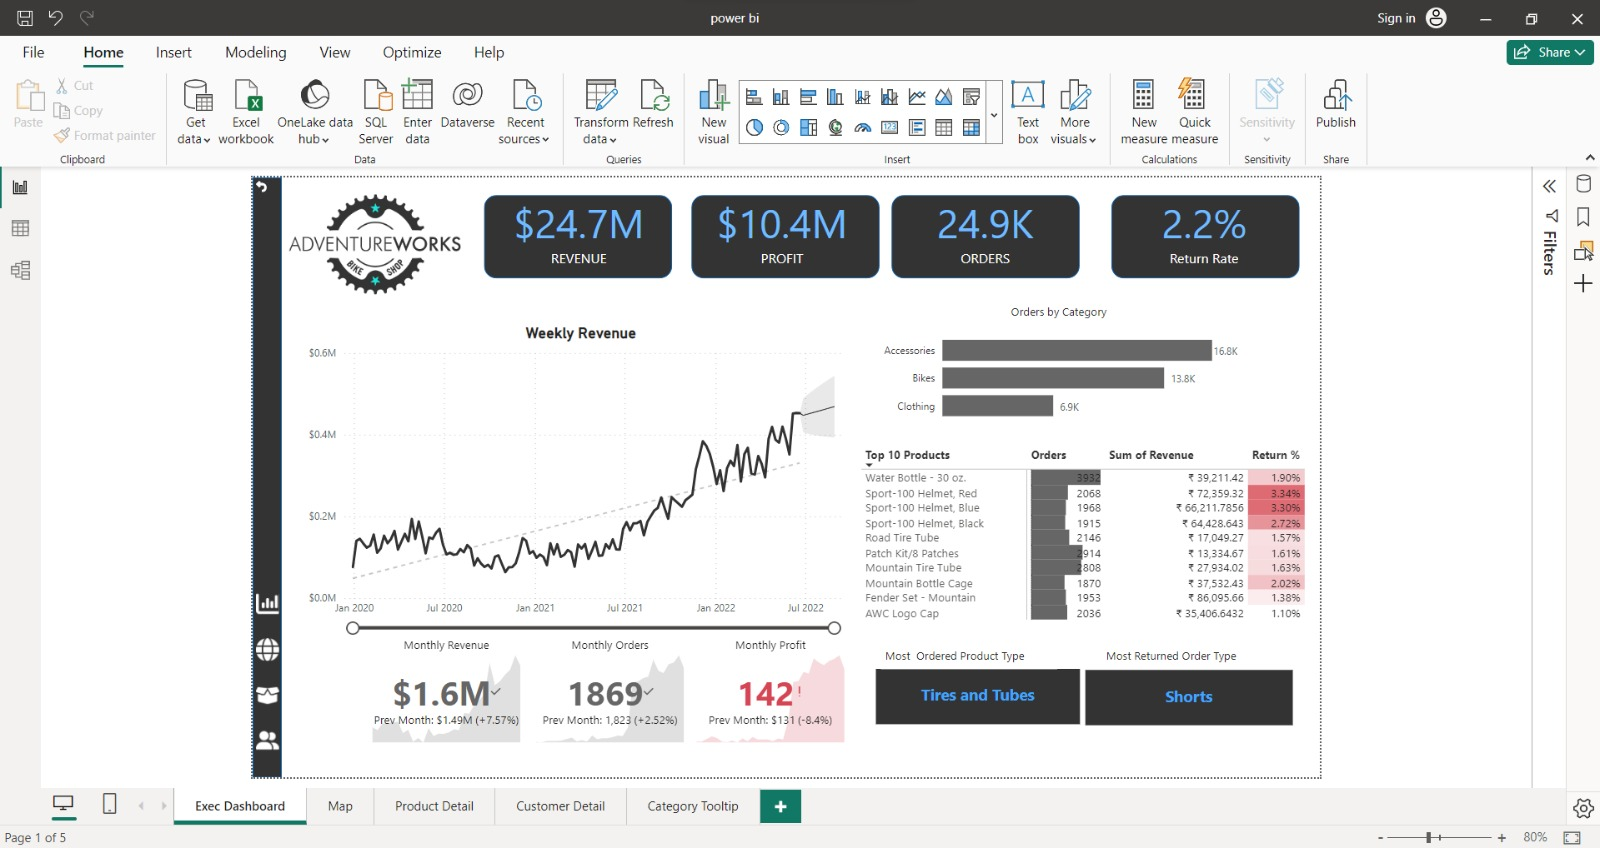

What the dashboard file says about the page in this screenshot:
{"tool":"powerbi","page":{"name":"Exec Dashboard","canvas":[1280,720],"ordinal":0},"visuals":[{"type":"card","fields":{"Values":["Measure Table.total revenue"]},"box":[260.3,0,262.8,128.2],"z":0,"group":"g2"},{"type":"image","title":"AW logo","box":[16.7,10.3,261.5,141],"z":0},{"type":"group","id":"g1","title":"KPI background","box":[278.2,21.8,978.2,100],"z":0,"group":"g3"},{"type":"shape","title":"Shape","box":[278.2,21.8,225.6,100],"z":0,"group":"g1"},{"type":"actionButton","title":"Button","box":[0,492.9,35.7,38.6],"z":0,"group":"g4"},{"type":"shape","title":"left nav background","box":[0,0,35,720.5],"z":1000},{"type":"group","id":"g2","title":"KPI Values","box":[260.3,0,1012.8,128.2],"z":1000,"group":"g3"},{"type":"card","fields":{"Values":["Measure Table.Return Rate"]},"box":[1010.3,0,262.8,128.2],"z":1000,"group":"g2"},{"type":"shape","box":[526.9,21.8,225.6,100],"z":1000,"group":"g1"},{"type":"actionButton","box":[0,547.7,35.7,38.6],"z":1000,"group":"g4"},{"type":"group","id":"g3","title":"KPI","box":[63,0,1210.1,551.2],"z":2000},{"type":"card","fields":{"Values":["Measure Table.Total profit"]},"box":[503.9,0,262.8,128.2],"z":2000,"group":"g2"},{"type":"shape","box":[766.7,21.8,225.6,100],"z":2000,"group":"g1"},{"type":"lineChart","title":"Weekly Revenue","fields":{"Y":["Measure Table.total revenue"],"Category":["Calendar Lookup.Start of Week"]},"box":[63,176.2,662.5,375],"z":2000,"group":"g3"},{"type":"actionButton","box":[0,602.4,35.7,38.6],"z":2000,"group":"g4"},{"type":"card","fields":{"Values":["Measure Table.Total Orders"]},"box":[747.5,0,262.8,128.2],"z":3000,"group":"g2"},{"type":"shape","title":"Shape","box":[1030.8,21.8,225.6,100],"z":3000,"group":"g1"},{"type":"kpi","title":"Monthly Revenue","fields":{"TrendLine":["Calendar Lookup.Start of Month"],"Goal":["Measure Table.Previous month revenue"],"Indicator":["Measure Table.total revenue"]},"box":[138.8,551.2,187.5,132.5],"z":3000},{"type":"actionButton","title":"Button","box":[0,657.2,35.7,38.6],"z":3000,"group":"g4"},{"type":"kpi","title":"Monthly Profit","fields":{"TrendLine":["Calendar Lookup.Start of Month"],"Indicator":["Measure Table.Total Return"],"Goal":["Measure Table.previous month returns"]},"box":[527.5,551.2,187.5,132.5],"z":4000},{"type":"kpi","title":"Monthly Orders","fields":{"TrendLine":["Calendar Lookup.Start of Month"],"Indicator":["Measure Table.Total Orders"],"Goal":["Measure Table.Previous month orders"]},"box":[335,551.2,187.5,132.5],"z":5000},{"type":"clusteredBarChart","title":"Orders by Category","fields":{"Category":["Product Categories Lookup.CategoryName"],"Y":["Measure Table.Total Orders"]},"box":[746.9,151.6,438.8,155.2],"z":6000},{"type":"pivotTable","fields":{"Rows":["Product Lookup.ProductName"],"Values":["Measure Table.Total Orders","Sum(Sales Data.Revenue)","Measure Table.Return Rate"]},"box":[725,318.8,547.5,232.5],"z":7000},{"type":"card","fields":{"Values":["Min(Product Subcategories Lookup.SubcategoryName)"]},"box":[747.5,590,245,66.2],"z":8000},{"type":"textbox","box":[753.8,560,211.2,30],"z":9000},{"type":"card","fields":{"Values":["Min(Product Subcategories Lookup.SubcategoryName)"]},"box":[998.8,591.2,248.8,66.2],"z":10000},{"type":"textbox","box":[1018.8,560,188.8,30],"z":11000},{"type":"actionButton","box":[0,0,35,21.2],"z":12000},{"type":"group","id":"g4","title":"Navigation Buttons","box":[0,492.9,35.7,202.9],"z":13000}]}

Visuals, with their boxes on the page's 1280x720 design canvas (x1, y1, x2, y2). These are canvas units, not pixel positions in the 1600x848 screenshot, which may show the page scaled, cropped or inside an application window:
card - Measure Table.total revenue: (260,0,523,128)
"AW logo" image: (17,10,278,151)
"KPI background" group: (278,22,1256,122)
"Shape" shape: (278,22,504,122)
"Button" actionButton: (0,493,36,532)
"left nav background" shape: (0,0,35,720)
"KPI Values" group: (260,0,1273,128)
card - Measure Table.Return Rate: (1010,0,1273,128)
shape: (527,22,752,122)
actionButton: (0,548,36,586)
"KPI" group: (63,0,1273,551)
card - Measure Table.Total profit: (504,0,767,128)
shape: (767,22,992,122)
"Weekly Revenue" lineChart: (63,176,726,551)
actionButton: (0,602,36,641)
card - Measure Table.Total Orders: (748,0,1010,128)
"Shape" shape: (1031,22,1256,122)
"Monthly Revenue" kpi: (139,551,326,684)
"Button" actionButton: (0,657,36,696)
"Monthly Profit" kpi: (528,551,715,684)
"Monthly Orders" kpi: (335,551,522,684)
"Orders by Category" clusteredBarChart: (747,152,1186,307)
pivotTable - Product Lookup.ProductName x Measure Table.Total Orders: (725,319,1272,551)
card - Min(Product Subcategories Lookup.SubcategoryName): (748,590,992,656)
textbox: (754,560,965,590)
card - Min(Product Subcategories Lookup.SubcategoryName): (999,591,1248,657)
textbox: (1019,560,1208,590)
actionButton: (0,0,35,21)
"Navigation Buttons" group: (0,493,36,696)
